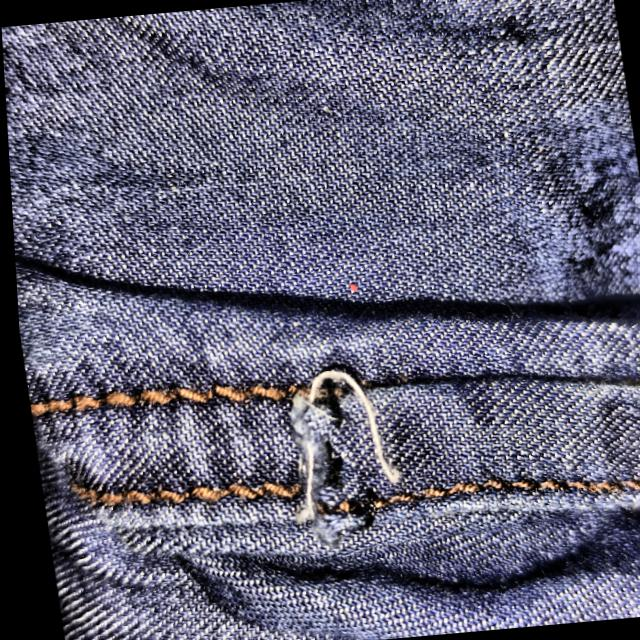Stitch: (255, 339, 412, 554)
